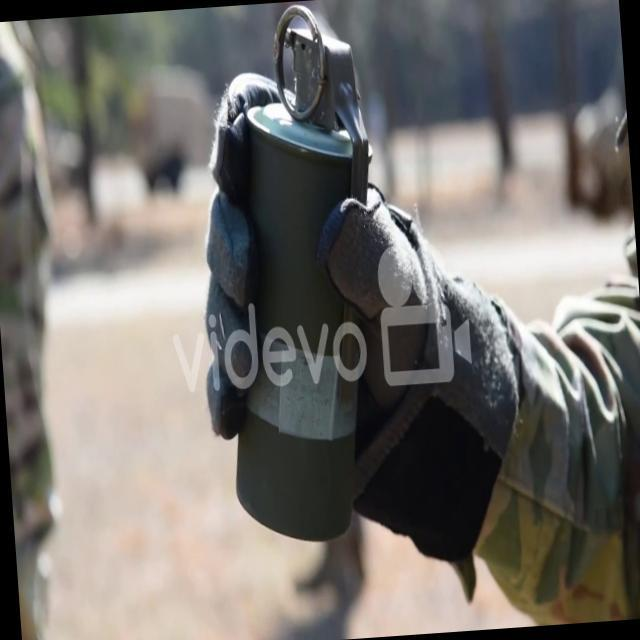grenade: (194, 0, 393, 551)
